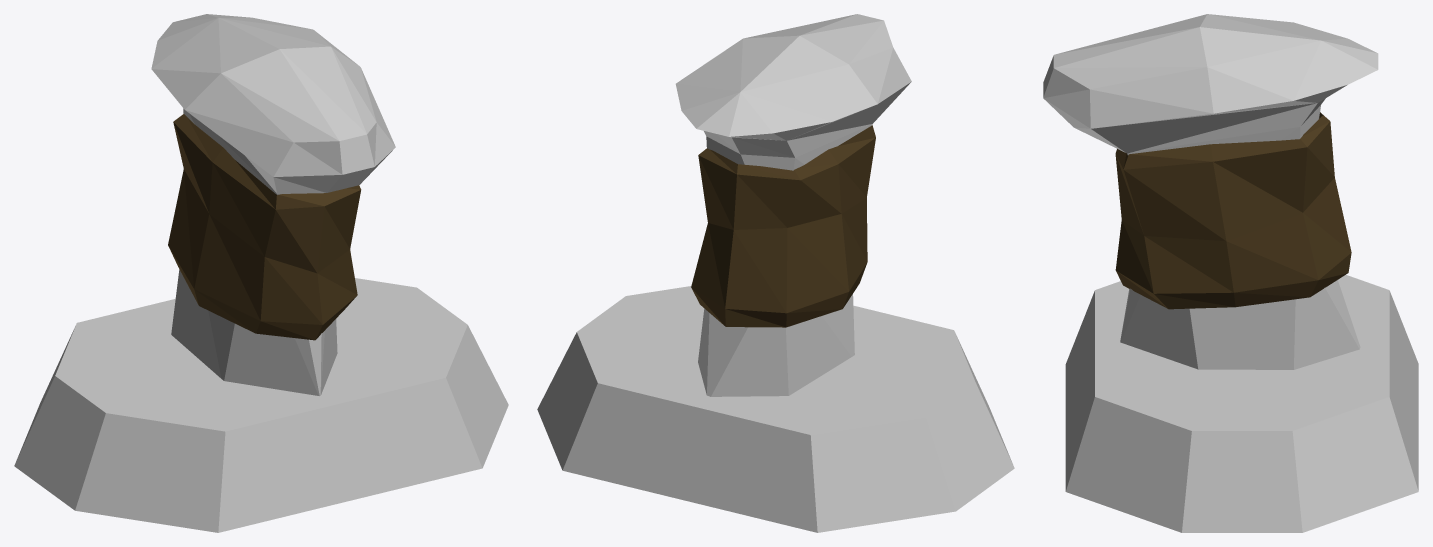
File: NW_HARBOUR_IRONROPEHOLDER_WROPE_01.OBJ
The picture shows the model from 3 angles, left to right: view 1: azimuth 30°, elevation 25°; view 2: azimuth 150°, elevation 25°; view 3: azimuth 270°, elevation 25°; orthographic projection. The views are drawn at different scales.
Visible parts, largest first — view 1: NW_HARBOUR_IRONROPEHOLDER_WROPE_01; view 2: NW_HARBOUR_IRONROPEHOLDER_WROPE_01; view 3: NW_HARBOUR_IRONROPEHOLDER_WROPE_01.
Part boxes in pixels (x1,y1,x2,y2): NW_HARBOUR_IRONROPEHOLDER_WROPE_01: [14, 14, 508, 532]; NW_HARBOUR_IRONROPEHOLDER_WROPE_01: [537, 14, 1014, 532]; NW_HARBOUR_IRONROPEHOLDER_WROPE_01: [1043, 14, 1418, 532].
Size of the model in its own units: 1.1 by 0.974 by 0.8298.
